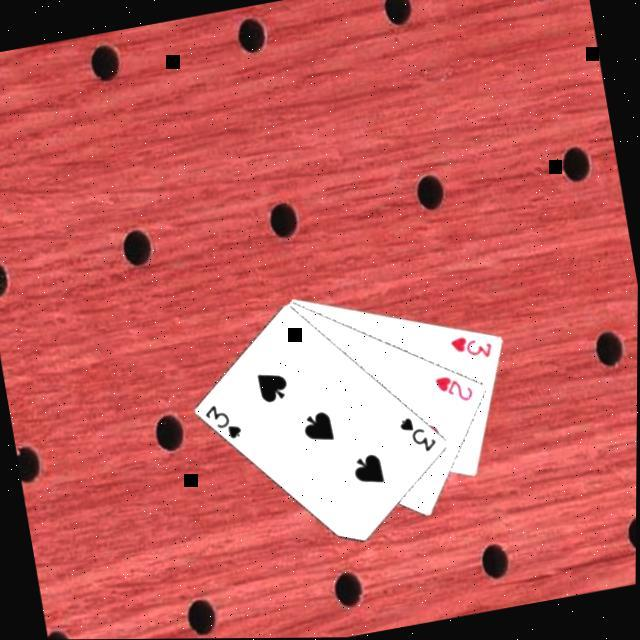2H: (432, 367, 479, 408)
3H: (447, 326, 498, 366)
3S: (201, 396, 248, 444), (396, 409, 442, 457)
